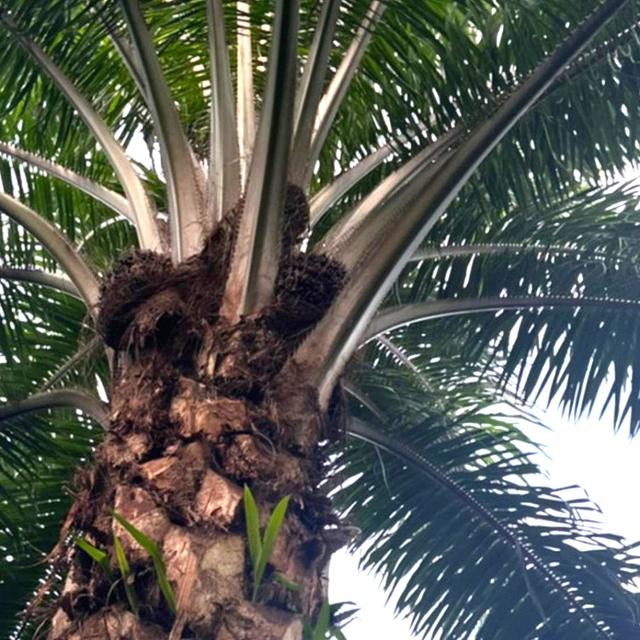almost: (89, 239, 181, 352), (268, 245, 352, 335)
